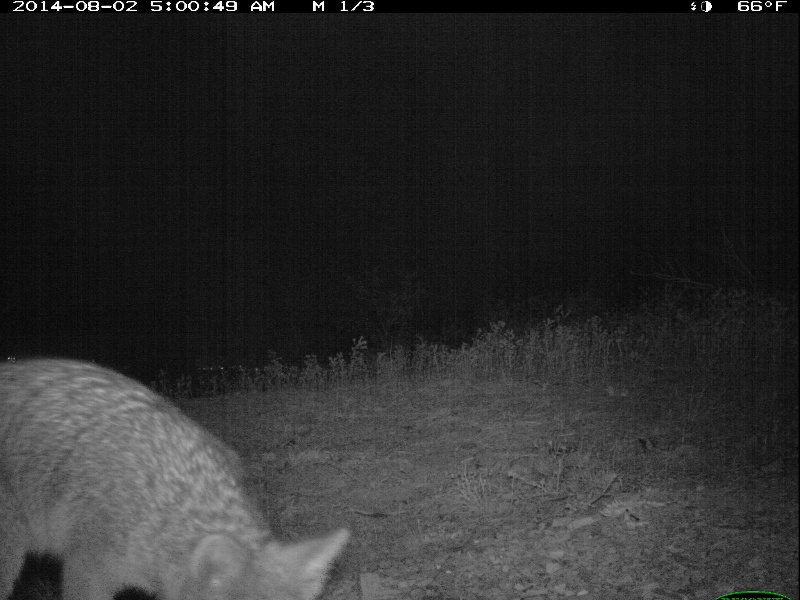coyote: (1, 352, 353, 598)
